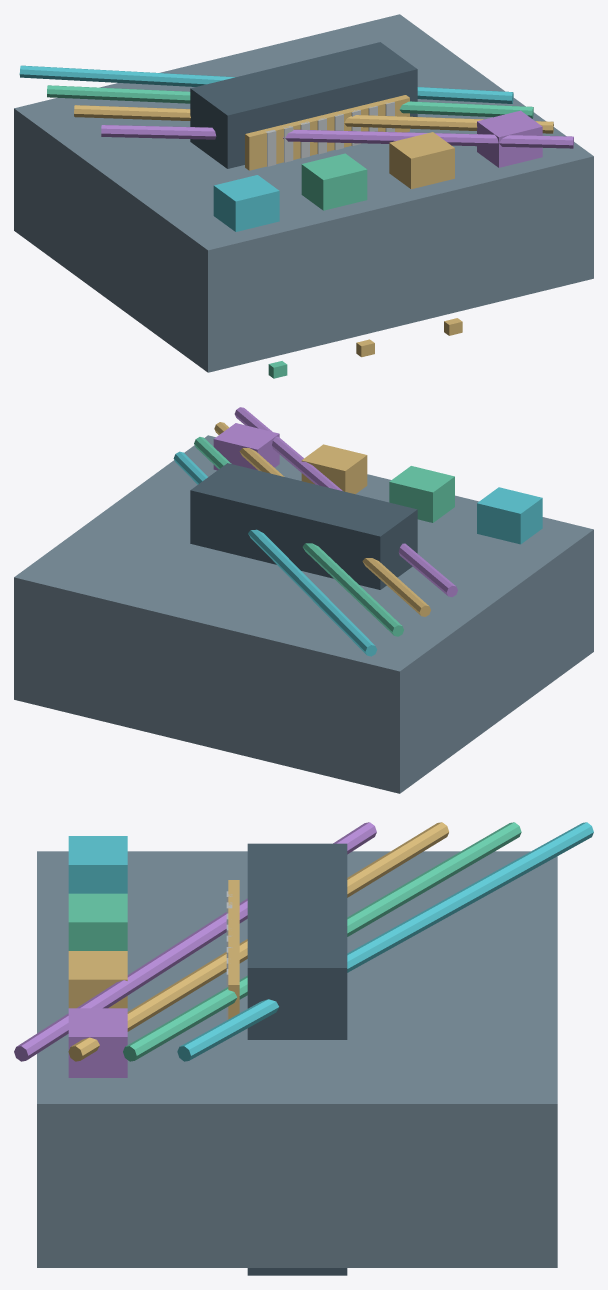
File: 13_L80_OpticalSafetyShutter.glb
The picture shows the model from 3 angles, top to bottom: view 1: azimuth 30°, elevation 25°; view 2: azimuth 150°, elevation 25°; view 3: azimuth 270°, elevation 25°; orthographic projection. The views are drawn at different scales.
Visible parts, largest first — view 1: OpticalSafetyShutter_Node_0000, OpticalSafetyShutter_Node_0009, OpticalSafetyShutter_Node_0008, OpticalSafetyShutter_Node_0002, OpticalSafetyShutter_Node_0004, OpticalSafetyShutter_Node_0006, OpticalSafetyShutter_Node_0003, OpticalSafetyShutter_Node_0001, OpticalSafetyShutter_Node_0005, OpticalSafetyShutter_Node_0010, OpticalSafetyShutter_Node_0007; view 2: OpticalSafetyShutter_Node_0000, OpticalSafetyShutter_Node_0009, OpticalSafetyShutter_Node_0001, OpticalSafetyShutter_Node_0002, OpticalSafetyShutter_Node_0003, OpticalSafetyShutter_Node_0008, OpticalSafetyShutter_Node_0004, OpticalSafetyShutter_Node_0005, OpticalSafetyShutter_Node_0007, OpticalSafetyShutter_Node_0006; view 3: OpticalSafetyShutter_Node_0000, OpticalSafetyShutter_Node_0009, OpticalSafetyShutter_Node_0002, OpticalSafetyShutter_Node_0004, OpticalSafetyShutter_Node_0006, OpticalSafetyShutter_Node_0008, OpticalSafetyShutter_Node_0007, OpticalSafetyShutter_Node_0001, OpticalSafetyShutter_Node_0003, OpticalSafetyShutter_Node_0005, OpticalSafetyShutter_Node_0010.
Boxes of the visible parts, x1=… form: OpticalSafetyShutter_Node_0000: x1=14, y1=14, x2=593, y2=372; OpticalSafetyShutter_Node_0009: x1=190, y1=42, x2=417, y2=168; OpticalSafetyShutter_Node_0008: x1=101, y1=125, x2=573, y2=148; OpticalSafetyShutter_Node_0002: x1=19, y1=65, x2=513, y2=103; OpticalSafetyShutter_Node_0004: x1=47, y1=85, x2=533, y2=118; OpticalSafetyShutter_Node_0006: x1=74, y1=105, x2=553, y2=133; OpticalSafetyShutter_Node_0003: x1=301, y1=153, x2=367, y2=210; OpticalSafetyShutter_Node_0001: x1=213, y1=175, x2=279, y2=231; OpticalSafetyShutter_Node_0005: x1=389, y1=132, x2=454, y2=189; OpticalSafetyShutter_Node_0010: x1=245, y1=95, x2=409, y2=170; OpticalSafetyShutter_Node_0007: x1=477, y1=110, x2=542, y2=167; OpticalSafetyShutter_Node_0000: x1=14, y1=435, x2=593, y2=793; OpticalSafetyShutter_Node_0009: x1=190, y1=463, x2=417, y2=589; OpticalSafetyShutter_Node_0001: x1=477, y1=487, x2=542, y2=544; OpticalSafetyShutter_Node_0002: x1=173, y1=451, x2=377, y2=656; OpticalSafetyShutter_Node_0003: x1=389, y1=466, x2=454, y2=522; OpticalSafetyShutter_Node_0008: x1=234, y1=407, x2=457, y2=597; OpticalSafetyShutter_Node_0004: x1=194, y1=437, x2=403, y2=636; OpticalSafetyShutter_Node_0005: x1=301, y1=444, x2=367, y2=494; OpticalSafetyShutter_Node_0007: x1=213, y1=423, x2=279, y2=470; OpticalSafetyShutter_Node_0006: x1=214, y1=422, x2=430, y2=616; OpticalSafetyShutter_Node_0000: x1=37, y1=851, x2=557, y2=1267; OpticalSafetyShutter_Node_0009: x1=247, y1=843, x2=347, y2=1275; OpticalSafetyShutter_Node_0002: x1=177, y1=822, x2=593, y2=1061; OpticalSafetyShutter_Node_0004: x1=123, y1=822, x2=521, y2=1061; OpticalSafetyShutter_Node_0006: x1=68, y1=822, x2=448, y2=1061; OpticalSafetyShutter_Node_0008: x1=14, y1=822, x2=376, y2=1061; OpticalSafetyShutter_Node_0007: x1=68, y1=1008, x2=127, y2=1077; OpticalSafetyShutter_Node_0001: x1=68, y1=836, x2=127, y2=893; OpticalSafetyShutter_Node_0003: x1=68, y1=893, x2=127, y2=950; OpticalSafetyShutter_Node_0005: x1=68, y1=951, x2=127, y2=1008; OpticalSafetyShutter_Node_0010: x1=228, y1=880, x2=239, y2=1019.
Size of the model in its own units: 1.32 by 0.75 by 1.28.
